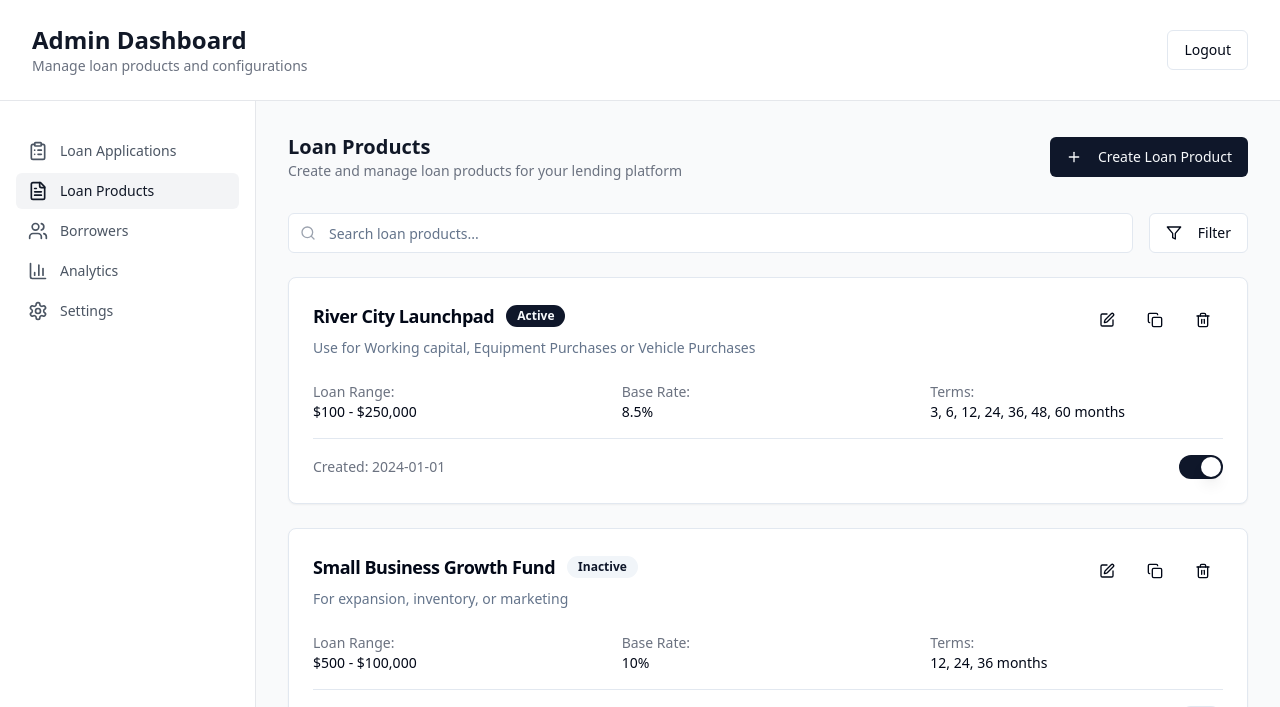
Scenario: AdminDashboard › allows editing existing loan products
The width and height of the screenshot is (1280, 707).
Step 1. Click the button with test id "edit-button" → {"x": 1107, "y": 320}, box left=1087, top=302, right=1127, bottom=338
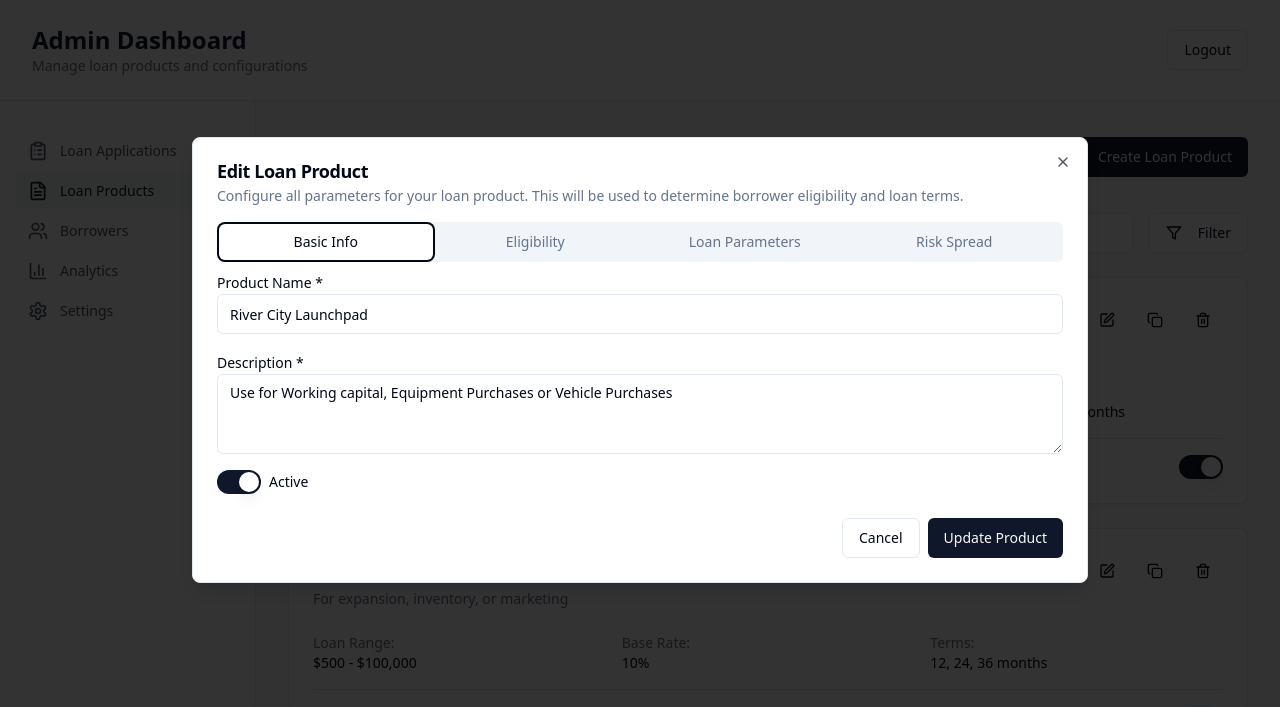
Expected: the heading "Edit Loan Product" is shown, left=217, top=159, right=368, bottom=183
Expected: the field showing "River City Launchpad" is shown, left=217, top=294, right=1063, bottom=334
